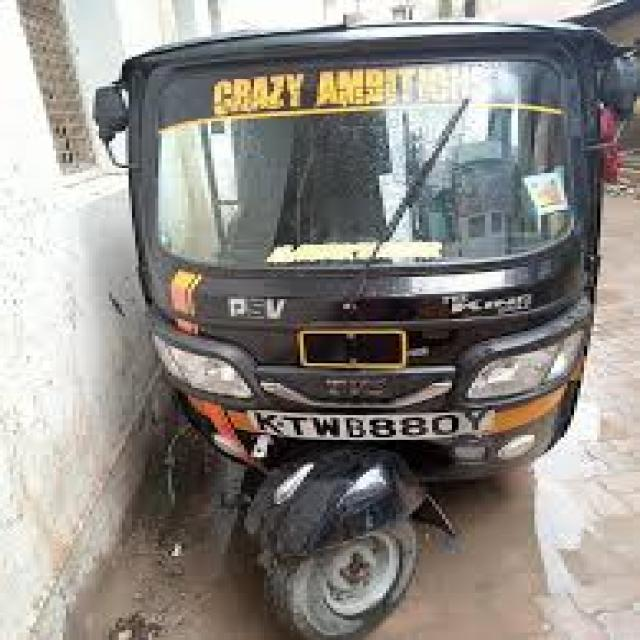tuktuk: (35, 6, 640, 640)
